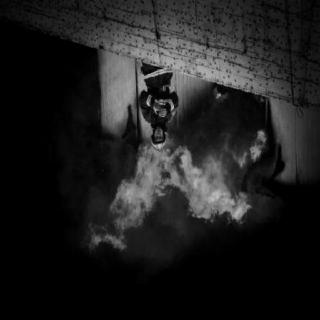Fire: (90, 118, 268, 258)
Smoke: (7, 178, 307, 318), (4, 45, 96, 317)
